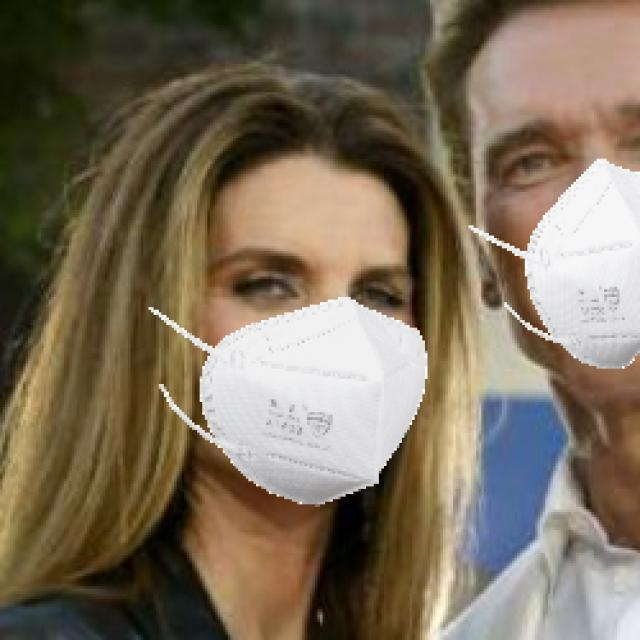kn95: (158, 139, 422, 500), (472, 28, 640, 384)
